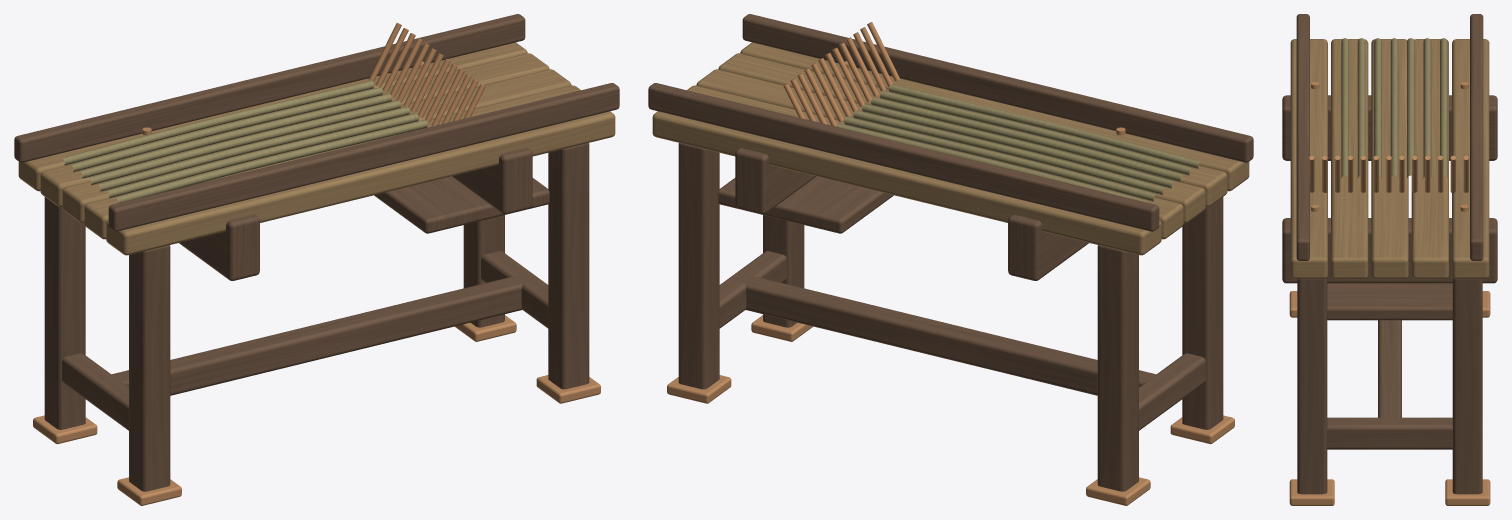
The model's file is bellroot-fen-floodward-marches-reed-stripping-bench-c80b2a4c__32910.glb.
The picture shows the model from 3 angles, left to right: view 1: azimuth 30°, elevation 25°; view 2: azimuth 150°, elevation 25°; view 3: azimuth 270°, elevation 25°; orthographic projection. The views are drawn at different scales.
Parts seen in each view (by area): view 1: reed-stripping-bench; view 2: reed-stripping-bench; view 3: reed-stripping-bench.
Part boxes in pixels (bbox=[...]): reed-stripping-bench: bbox=[14, 14, 619, 505]; reed-stripping-bench: bbox=[648, 14, 1253, 505]; reed-stripping-bench: bbox=[1282, 14, 1497, 505].
Size of the model in its own units: 1.8 by 1.11 by 0.7199.
Materials: 4 (3 with a texture image).
